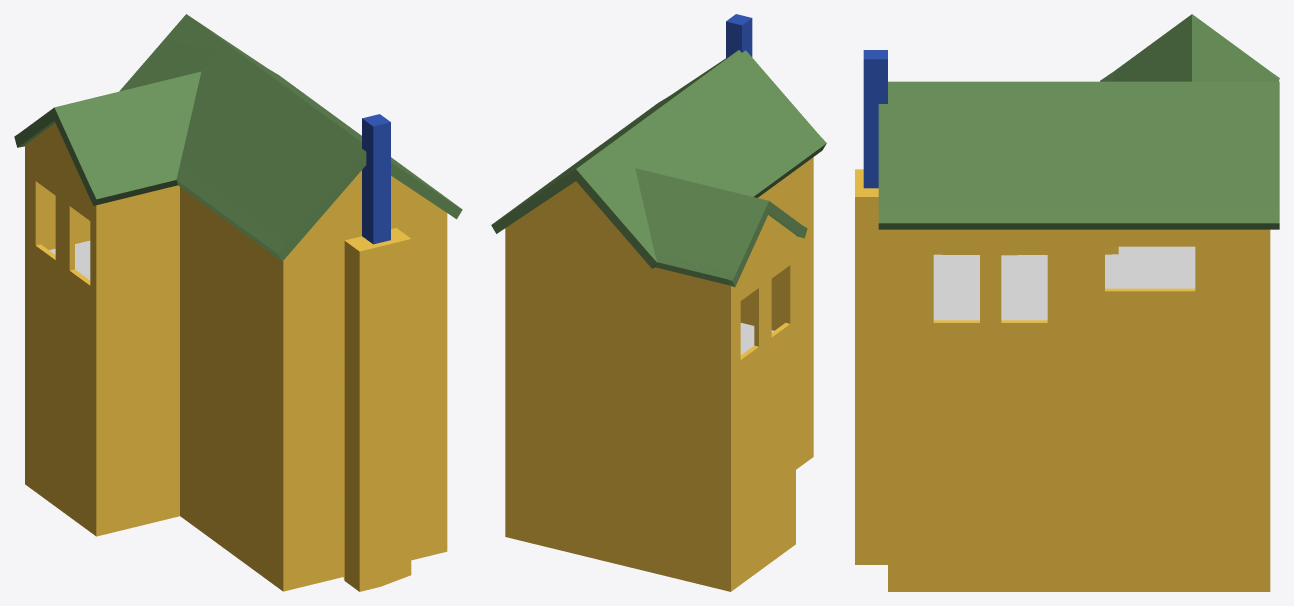
File: house outside2.fbx
3 views of the same model, side by side, from view 1: azimuth 30°, elevation 25°; view 2: azimuth 150°, elevation 25°; view 3: azimuth 270°, elevation 25° (orthographic). The views are drawn at different scales.
Visible parts, largest first — view 1: HouseOutside, HouseInside; view 2: HouseOutside, HouseInside; view 3: HouseOutside, FloorCeiling, HouseInside.
Boxes of the visible parts, box(x1,y1,x2,y2) form: HouseOutside: box(14, 14, 462, 591); HouseInside: box(35, 181, 90, 285); HouseOutside: box(491, 14, 826, 591); HouseInside: box(740, 265, 790, 359); HouseOutside: box(855, 14, 1279, 591); FloorCeiling: box(933, 246, 1195, 320); HouseInside: box(933, 246, 1195, 322).
Bounding box in the file's own units: 4974 × 6310 × 8218.
